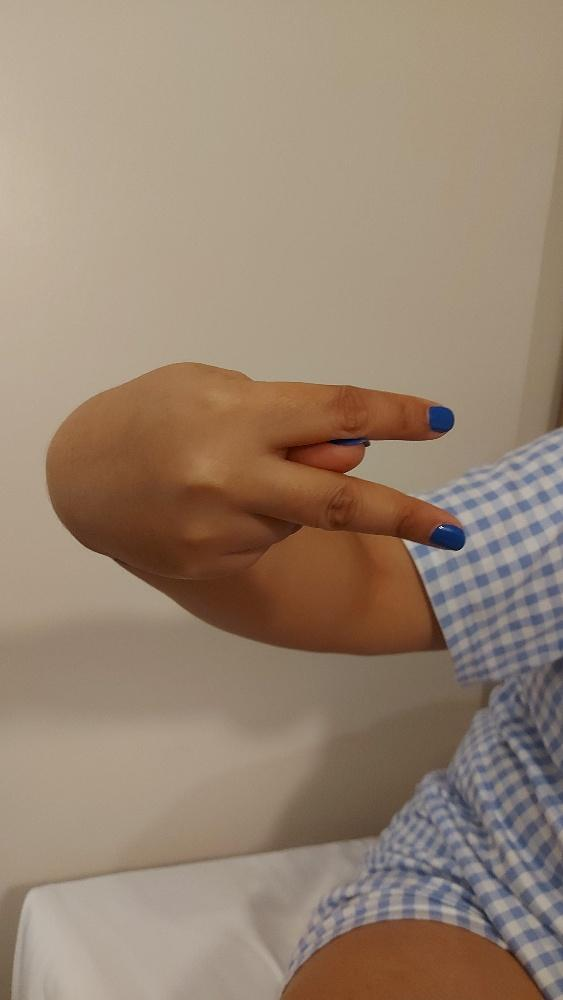k: (44, 359, 466, 578)
